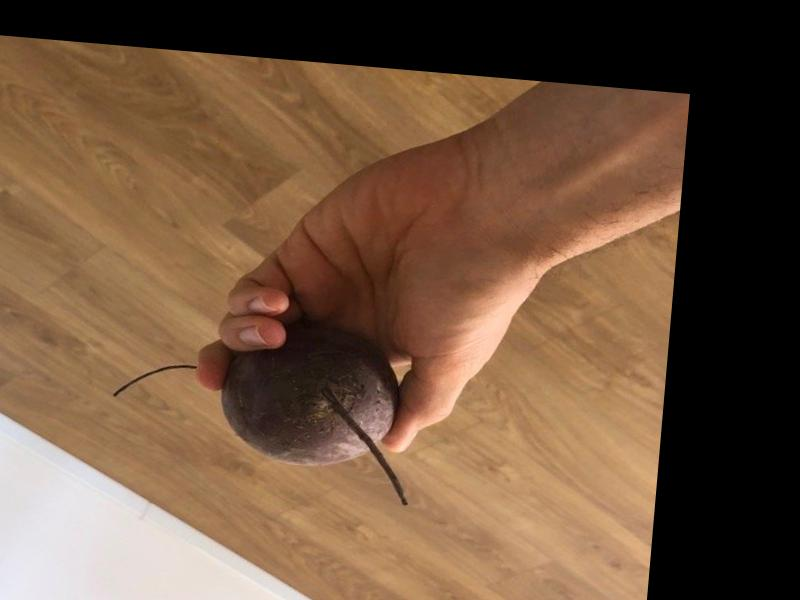Beet: (104, 308, 420, 504)
